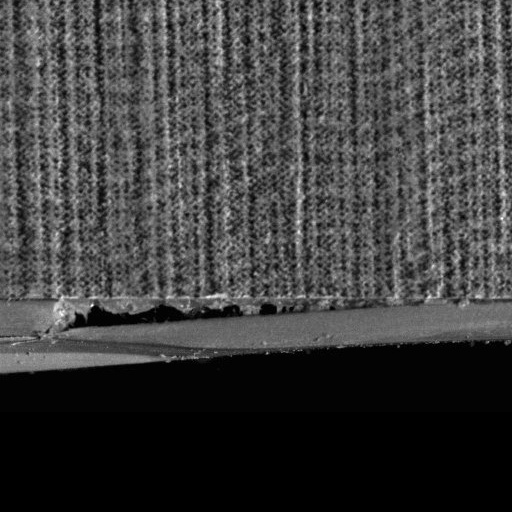kaijiao: (0, 296, 511, 379)
